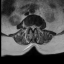CCS_normal: (32, 23, 33, 32)
LFS_stenosis: (36, 23, 38, 29)
LLS_normal: (33, 23, 36, 29)
RFS_stenosis: (28, 23, 30, 29)
RLS_normal: (30, 23, 32, 29)
